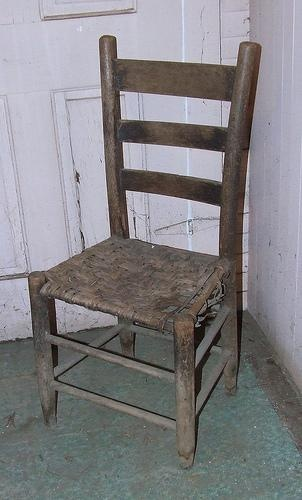obstacle: (28, 35, 260, 465)
